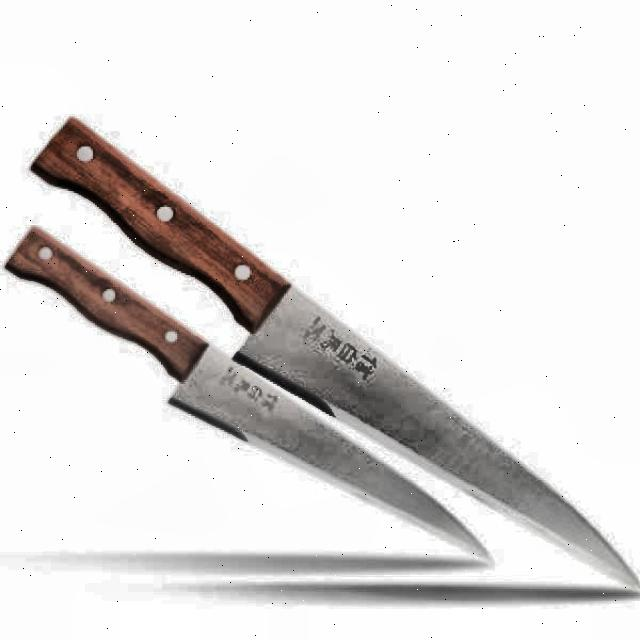knife: (24, 116, 640, 589), (1, 222, 492, 560)
